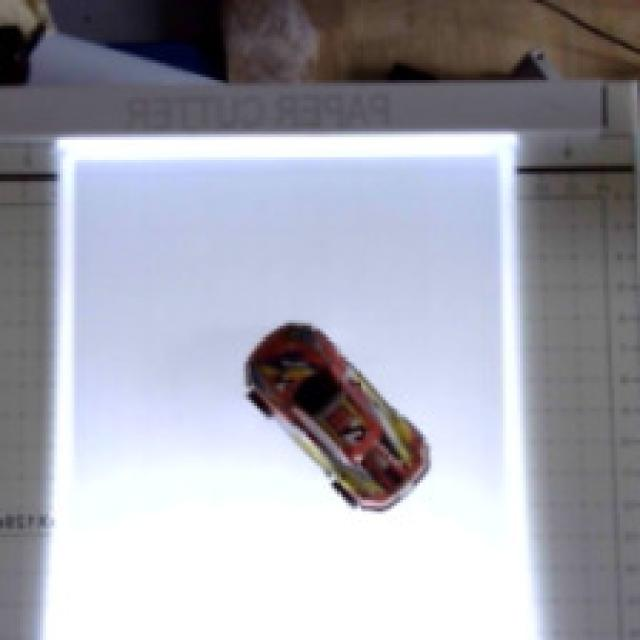Red Car: (210, 315, 455, 538)
